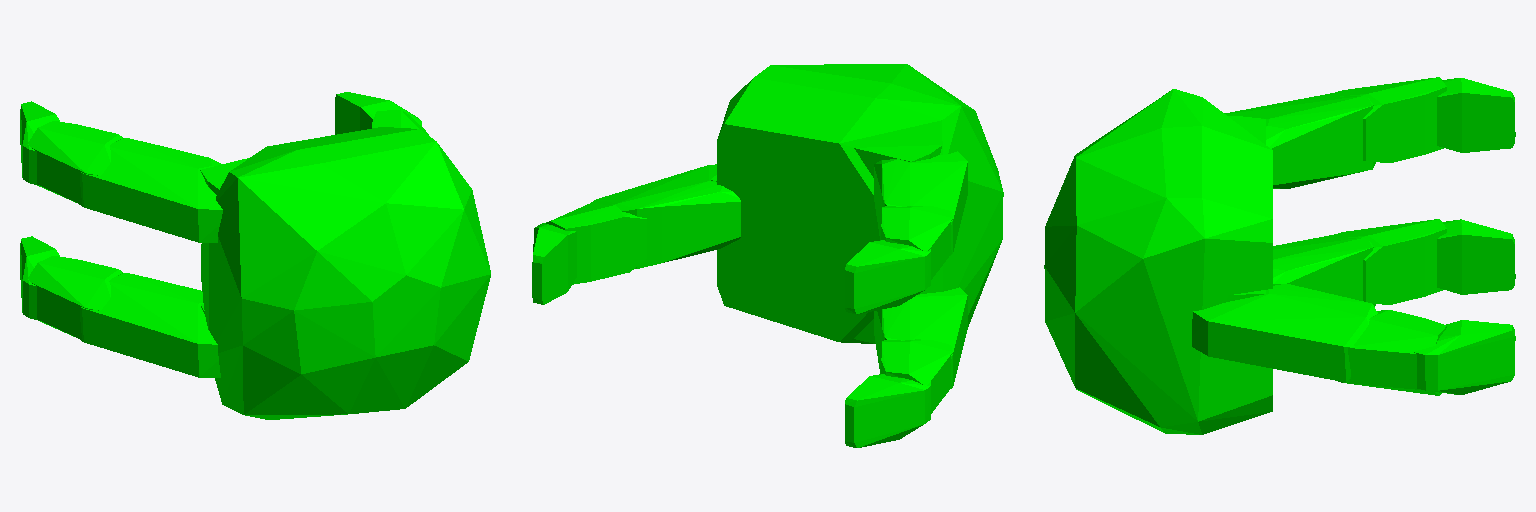
robot.urdf — s-model_articulated:
<?xml version="1.0" ?>
<!-- =================================================================================== -->
<!-- |    This document was autogenerated by xacro from s-model_articulated.xacro      | -->
<!-- |    EDITING THIS FILE BY HAND IS NOT RECOMMENDED                                 | -->
<!-- =================================================================================== -->
<!-- 
s-model_articulated - articulated version of the robotiq s-model,
3 fingered gripper.                                                
-->
<robot name="s-model_articulated" xmlns:xacro="http://ros.org/wiki/xacro">
  <link name="finger_1_link_0">
    <visual>
      <origin rpy="0 0 0" xyz="0.020 0 0"/>
      <geometry>
        <mesh filename="package://ur_description/meshes/s-model_articulated/visual/link_0.STL"/>
      </geometry>
      <material name="green">
        <color rgba="0 1 0 1"/>
      </material>
    </visual>
    <collision>
      <origin rpy="0 3.1416 -1.57" xyz="-0.0455 0.0414 0.036"/>
      <geometry>
        <mesh filename="package://ur_description/meshes/s-model_articulated/collision/link_0.STL"/>
      </geometry>
      <material name="yellow">
        <color rgba="0 1 1 1"/>
      </material>
    </collision>
    <inertial>
      <origin rpy="0 0 0" xyz="0 0 0"/>
      <mass value="0.05"/>
      <inertia ixx="0.01" ixy="0" ixz="0" iyy="0.01" iyz="0" izz="0.01"/>
    </inertial>
  </link>
  <link name="finger_1_link_1">
    <visual>
      <origin rpy="0 0 -0.52" xyz="0.050 -.028 0"/>
      <geometry>
        <mesh filename="package://ur_description/meshes/s-model_articulated/visual/link_1.STL"/>
      </geometry>
      <material name="green"/>
    </visual>
    <collision>
      <origin rpy="0 0 -0.52" xyz="0.050 -.028 0"/>
      <geometry>
        <mesh filename="package://ur_description/meshes/s-model_articulated/collision/link_1.STL"/>
      </geometry>
      <material name="yellow"/>
    </collision>
    <inertial>
      <origin rpy="0 0 0" xyz="0 0 0"/>
      <mass value="0.15"/>
      <inertia ixx="0.01" ixy="0" ixz="0" iyy="0.012756" iyz="0" izz="0.01"/>
    </inertial>
  </link>
  <link name="finger_1_link_2">
    <!--
			NOTE: This link has an offset in the z-direction based on the models that were
			used to generate grap-it poses.  With the offset below the model appears visually
			correct, but it is suspect.
			-->
    <visual>
      <origin rpy="0 0 0" xyz="0.039 0 0.0075"/>
      <geometry>
        <mesh filename="package://ur_description/meshes/s-model_articulated/visual/link_2.STL"/>
      </geometry>
      <material name="green"/>
    </visual>
    <collision>
      <origin rpy="0 0 0" xyz="0.039 0 0.0075"/>
      <geometry>
        <mesh filename="package://ur_description/meshes/s-model_articulated/collision/link_2.STL"/>
      </geometry>
      <material name="yellow"/>
    </collision>
    <inertial>
      <origin rpy="0 0 0" xyz="0 0 0"/>
      <mass value="0.15"/>
      <inertia ixx="0.01" ixy="0" ixz="0" iyy="0.012756" iyz="0" izz="0.01"/>
    </inertial>
  </link>
  <link name="finger_1_link_3">
    <visual>
      <origin rpy="0 0 0.52" xyz="0 0 0"/>
      <geometry>
        <mesh filename="package://ur_description/meshes/s-model_articulated/visual/link_3.STL"/>
      </geometry>
      <material name="green"/>
    </visual>
    <collision>
      <origin rpy="0 0 0.52" xyz="0 0 0"/>
      <geometry>
        <mesh filename="package://ur_description/meshes/s-model_articulated/collision/link_3.STL"/>
      </geometry>
      <material name="yellow"/>
    </collision>
    <inertial>
      <origin rpy="0 0 0" xyz="0 0 0"/>
      <mass value="0.05"/>
      <inertia ixx="0.01" ixy="0" ixz="0" iyy="0.01" iyz="0" izz="0.01"/>
    </inertial>
  </link>
  <joint name="finger_1_joint_1" type="revolute">
    <parent link="finger_1_link_0"/>
    <child link="finger_1_link_1"/>
    <axis xyz="0 0 1"/>
    <origin rpy="0 0 0" xyz="0.020 0 0"/>
    <limit effort="100" lower="0" upper="3.1416" velocity="100"/>
  </joint>
  <joint name="finger_1_joint_2" type="revolute">
    <parent link="finger_1_link_1"/>
    <child link="finger_1_link_2"/>
    <axis xyz="0 0 1"/>
    <origin rpy="0 0 -0.52" xyz="0.050 -.028 0"/>
    <limit effort="100" lower="0" upper="3.1416" velocity="100"/>
  </joint>
  <joint name="finger_1_joint_3" type="revolute">
    <parent link="finger_1_link_2"/>
    <child link="finger_1_link_3"/>
    <axis xyz="0 0 1"/>
    <origin rpy="0 0 0" xyz="0.039 0 0"/>
    <limit effort="100" lower="0" upper="3.1416" velocity="100"/>
  </joint>
  <link name="finger_2_link_0">
    <visual>
      <origin rpy="0 0 0" xyz="0.020 0 0"/>
      <geometry>
        <mesh filename="package://ur_description/meshes/s-model_articulated/visual/link_0.STL"/>
      </geometry>
      <material name="green">
        <color rgba="0 1 0 1"/>
      </material>
    </visual>
    <collision>
      <origin rpy="0 3.1416 -1.57" xyz="-0.0455 0.0414 0.036"/>
      <geometry>
        <mesh filename="package://ur_description/meshes/s-model_articulated/collision/link_0.STL"/>
      </geometry>
      <material name="yellow">
        <color rgba="0 1 1 1"/>
      </material>
    </collision>
    <inertial>
      <origin rpy="0 0 0" xyz="0 0 0"/>
      <mass value="0.05"/>
      <inertia ixx="0.01" ixy="0" ixz="0" iyy="0.01" iyz="0" izz="0.01"/>
    </inertial>
  </link>
  <link name="finger_2_link_1">
    <visual>
      <origin rpy="0 0 -0.52" xyz="0.050 -.028 0"/>
      <geometry>
        <mesh filename="package://ur_description/meshes/s-model_articulated/visual/link_1.STL"/>
      </geometry>
      <material name="green"/>
    </visual>
    <collision>
      <origin rpy="0 0 -0.52" xyz="0.050 -.028 0"/>
      <geometry>
        <mesh filename="package://ur_description/meshes/s-model_articulated/collision/link_1.STL"/>
      </geometry>
      <material name="yellow"/>
    </collision>
    <inertial>
      <origin rpy="0 0 0" xyz="0 0 0"/>
      <mass value="0.15"/>
      <inertia ixx="0.01" ixy="0" ixz="0" iyy="0.012756" iyz="0" izz="0.01"/>
    </inertial>
  </link>
  <link name="finger_2_link_2">
    <!--
			NOTE: This link has an offset in the z-direction based on the models that were
			used to generate grap-it poses.  With the offset below the model appears visually
			correct, but it is suspect.
			-->
    <visual>
      <origin rpy="0 0 0" xyz="0.039 0 0.0075"/>
      <geometry>
        <mesh filename="package://ur_description/meshes/s-model_articulated/visual/link_2.STL"/>
      </geometry>
      <material name="green"/>
    </visual>
    <collision>
      <origin rpy="0 0 0" xyz="0.039 0 0.0075"/>
      <geometry>
        <mesh filename="package://ur_description/meshes/s-model_articulated/collision/link_2.STL"/>
      </geometry>
      <material name="yellow"/>
    </collision>
    <inertial>
      <origin rpy="0 0 0" xyz="0 0 0"/>
      <mass value="0.15"/>
     <inertia ixx="0.01" ixy="0" ixz="0" iyy="0.012756" iyz="0" izz="0.01"/>
    </inertial>
  </link>
  <link name="finger_2_link_3">
    <visual>
      <origin rpy="0 0 0.52" xyz="0 0 0"/>
      <geometry>
        <mesh filename="package://ur_description/meshes/s-model_articulated/visual/link_3.STL"/>
      </geometry>
      <material name="green"/>
    </visual>
    <collision>
      <origin rpy="0 0 0.52" xyz="0 0 0"/>
      <geometry>
        <mesh filename="package://ur_description/meshes/s-model_articulated/collision/link_3.STL"/>
      </geometry>
      <material name="yellow"/>
    </collision>
    <inertial>
      <origin rpy="0 0 0" xyz="0 0 0"/>
      <mass value="0.05"/>
      <inertia ixx="0.01" ixy="0" ixz="0" iyy="0.01" iyz="0" izz="0.01"/>
    </inertial>
  </link>
  <joint name="finger_2_joint_1" type="revolute">
    <parent link="finger_2_link_0"/>
    <child link="finger_2_link_1"/>
    <axis xyz="0 0 1"/>
    <origin rpy="0 0 0" xyz="0.020 0 0"/>
    <limit effort="100" lower="0" upper="3.1416" velocity="100"/>
  </joint>
  <joint name="finger_2_joint_2" type="revolute">
    <parent link="finger_2_link_1"/>
    <child link="finger_2_link_2"/>
    <axis xyz="0 0 1"/>
    <origin rpy="0 0 -0.52" xyz="0.050 -.028 0"/>
    <limit effort="100" lower="0" upper="3.1416" velocity="100"/>
  </joint>
  <joint name="finger_2_joint_3" type="revolute">
    <parent link="finger_2_link_2"/>
    <child link="finger_2_link_3"/>
    <axis xyz="0 0 1"/>
    <origin rpy="0 0 0" xyz="0.039 0 0"/>
    <limit effort="100" lower="0" upper="3.1416" velocity="100"/>
  </joint>
  <link name="finger_middle_link_0">
    <visual>
      <origin rpy="0 0 0" xyz="0.020 0 0"/>
      <geometry>
        <mesh filename="package://ur_description/meshes/s-model_articulated/visual/link_0.STL"/>
      </geometry>
      <material name="green">
        <color rgba="0 1 0 1"/>
      </material>
    </visual>
    <collision>
      <origin rpy="0 3.1416 -1.57" xyz="-0.0455 0.0414 0.036"/>
      <geometry>
        <mesh filename="package://ur_description/meshes/s-model_articulated/collision/link_0.STL"/>
      </geometry>
      <material name="yellow">
        <color rgba="0 1 1 1"/>
      </material>
    </collision>
    <inertial>
      <origin rpy="0 0 0" xyz="0 0 0"/>
      <mass value="0.05"/>
      <inertia ixx="0.01" ixy="0" ixz="0" iyy="0.01" iyz="0" izz="0.01"/>
    </inertial>
  </link>
  <link name="finger_middle_link_1">
    <visual>
      <origin rpy="0 0 -0.52" xyz="0.050 -.028 0"/>
      <geometry>
        <mesh filename="package://ur_description/meshes/s-model_articulated/visual/link_1.STL"/>
      </geometry>
      <material name="green"/>
    </visual>
    <collision>
      <origin rpy="0 0 -0.52" xyz="0.050 -.028 0"/>
      <geometry>
        <mesh filename="package://ur_description/meshes/s-model_articulated/collision/link_1.STL"/>
      </geometry>
      <material name="yellow"/>
    </collision>
    <inertial>
      <origin rpy="0 0 0" xyz="0 0 0"/>
      <mass value="0.15"/>
      <inertia ixx="0.01" ixy="0" ixz="0" iyy="0.012756" iyz="0" izz="0.01"/>
    </inertial>
  </link>
  <link name="finger_middle_link_2">
    <!--
			NOTE: This link has an offset in the z-direction based on the models that were
			used to generate grap-it poses.  With the offset below the model appears visually
			correct, but it is suspect.
			-->
    <visual>
      <origin rpy="0 0 0" xyz="0.039 0 0.0075"/>
      <geometry>
        <mesh filename="package://ur_description/meshes/s-model_articulated/visual/link_2.STL"/>
      </geometry>
      <material name="green"/>
    </visual>
    <collision>
      <origin rpy="0 0 0" xyz="0.039 0 0.0075"/>
      <geometry>
        <mesh filename="package://ur_description/meshes/s-model_articulated/collision/link_2.STL"/>
      </geometry>
      <material name="yellow"/>
    </collision>
    <inertial>
      <origin rpy="0 0 0" xyz="0 0 0"/>
      <mass value="0.15"/>
      <inertia ixx="0.01" ixy="0" ixz="0" iyy="0.012756" iyz="0" izz="0.01"/>
    </inertial>
  </link>
  <link name="finger_middle_link_3">
    <visual>
      <origin rpy="0 0 0.52" xyz="0 0 0"/>
      <geometry>
        <mesh filename="package://ur_description/meshes/s-model_articulated/visual/link_3.STL"/>
      </geometry>
      <material name="green"/>
    </visual>
    <collision>
      <origin rpy="0 0 0.52" xyz="0 0 0"/>
      <geometry>
        <mesh filename="package://ur_description/meshes/s-model_articulated/collision/link_3.STL"/>
      </geometry>
      <material name="yellow"/>
    </collision>
    <inertial>
      <origin rpy="0 0 0" xyz="0 0 0"/>
      <mass value="0.05"/>
      <inertia ixx="0.01" ixy="0" ixz="0" iyy="0.01" iyz="0" izz="0.01"/>
    </inertial>
  </link>
  <joint name="finger_middle_joint_1" type="revolute">
    <parent link="finger_middle_link_0"/>
    <child link="finger_middle_link_1"/>
    <axis xyz="0 0 1"/>
    <origin rpy="0 0 0" xyz="0.020 0 0"/>
    <limit effort="100" lower="0" upper="3.1416" velocity="100"/>
  </joint>
  <joint name="finger_middle_joint_2" type="revolute">
    <parent link="finger_middle_link_1"/>
    <child link="finger_middle_link_2"/>
    <axis xyz="0 0 1"/>
    <origin rpy="0 0 -0.52" xyz="0.050 -.028 0"/>
    <limit effort="100" lower="0" upper="3.1416" velocity="100"/>
  </joint>
  <joint name="finger_middle_joint_3" type="revolute">
    <parent link="finger_middle_link_2"/>
    <child link="finger_middle_link_3"/>
    <axis xyz="0 0 1"/>
    <origin rpy="0 0 0" xyz="0.039 0 0"/>
    <limit effort="100" lower="0" upper="3.1416" velocity="100"/>
  </joint>
  <link name="palm">
    <visual>
      <geometry>
        <mesh filename="package://ur_description/meshes/s-model_articulated/visual/palm.STL"/>
      </geometry>
      <material name="green">
        <color rgba="0 1 0 1"/>
      </material>
    </visual>
    <collision>
      <geometry>
        <mesh filename="package://ur_description/meshes/s-model_articulated/collision/palm.STL"/>
      </geometry>
      <material name="yellow">
        <color rgba="0 1 1 1"/>
      </material>
    </collision>
    <inertial>
      <origin rpy="0 0 0" xyz="0 0 0"/>
      <mass value="1.3"/>
      <inertia ixx="0.0035" ixy="0" ixz="0" iyy="0.0035" iyz="0" izz="0.0035"/>
    </inertial>
  </link>
  <inertial>
    <origin rpy="0 0 0" xyz="0 0 0"/>
    <mass value="1.3"/>
    <inertia ixx="0.006012" ixy="0.000079" ixz="-0.00024" iyy="0.012892" iyz="0" izz="0.002435"/>
  </inertial>
  <joint name="palm_finger_1_joint" type="revolute">
    <parent link="palm"/>
    <child link="finger_1_link_0"/>
    <axis xyz="0 1 0"/>
    <origin rpy="0 3.1416 -1.57" xyz="-0.0455 0.0214 0.036"/>
    <limit effort="100" lower="-0.16" upper="0.25" velocity="100"/>
  </joint>
  <joint name="palm_finger_2_joint" type="revolute">
    <parent link="palm"/>
    <child link="finger_2_link_0"/>
    <axis xyz="0 1 0"/>
    <origin rpy="0 3.1416 -1.57" xyz="-0.0455 0.0214 -0.036"/>
    <limit effort="100" lower="-0.25" upper="0.16" velocity="100"/>
  </joint>
  <joint name="palm_finger_middle_joint" type="fixed">
    <parent link="palm"/>
    <child link="finger_middle_link_0"/>
    <axis xyz="0 0 1"/>
    <origin rpy="0 0 1.57" xyz="0.0455 0.0214 0"/>
  </joint>
  <!--
	<include filename="$(find robotiq_s_model_visualization)/cfg/s-model_finger_articulated_macro.xacro" />
	<xacro:s-model_finger_articulated prefix=""/>
-->
</robot>

--- Render facts (derived) ---
3 views of the same robot in one strip: view 1: azimuth 30°, elevation 25°; view 2: azimuth 150°, elevation 25°; view 3: azimuth 270°, elevation 25° (orthographic).
Robot: s-model_articulated — 13 links, 12 joints (11 revolute, 1 fixed); root link palm; default pose: all joints at 0.
Links seen in each view (by area): view 1: palm, finger_1_link_1, finger_2_link_1, finger_1_link_2, finger_2_link_2, finger_middle_link_3, finger_2_link_3, finger_1_link_3, finger_middle_link_2, finger_1_link_0; view 2: palm, finger_middle_link_1, finger_middle_link_2, finger_1_link_1, finger_1_link_3, finger_2_link_3, finger_2_link_1, finger_2_link_2, finger_1_link_2, finger_middle_link_3, finger_1_link_0; view 3: palm, finger_middle_link_1, finger_1_link_1, finger_middle_link_3, finger_1_link_2, finger_2_link_2, finger_middle_link_2, finger_1_link_3, finger_2_link_3, finger_2_link_1.
Link boxes in pixels (box(x1,y1,x2,y2)): palm: box(201, 127, 490, 419); finger_1_link_1: box(79, 138, 222, 242); finger_2_link_1: box(80, 273, 220, 377); finger_1_link_2: box(26, 121, 122, 204); finger_2_link_2: box(26, 256, 122, 339); finger_middle_link_3: box(335, 92, 421, 134); finger_2_link_3: box(20, 236, 59, 320); finger_1_link_3: box(20, 101, 59, 185); finger_middle_link_2: box(372, 109, 428, 135); finger_1_link_0: box(200, 158, 248, 194); palm: box(717, 64, 1003, 343); finger_middle_link_1: box(591, 164, 740, 268); finger_middle_link_2: box(546, 203, 646, 284); finger_1_link_1: box(874, 151, 967, 255); finger_1_link_3: box(845, 240, 930, 314); finger_2_link_3: box(845, 374, 930, 447); finger_2_link_1: box(874, 287, 967, 388); finger_2_link_2: box(881, 339, 952, 413); finger_1_link_2: box(881, 206, 952, 279); finger_middle_link_3: box(532, 222, 576, 304); finger_1_link_0: box(854, 145, 941, 177); palm: box(1044, 89, 1272, 434); finger_middle_link_1: box(1192, 284, 1377, 382); finger_1_link_1: box(1224, 93, 1375, 188); finger_middle_link_3: box(1414, 320, 1515, 394); finger_1_link_2: box(1329, 77, 1446, 162); finger_2_link_2: box(1329, 219, 1446, 304); finger_middle_link_2: box(1338, 310, 1446, 395); finger_1_link_3: box(1437, 78, 1515, 152); finger_2_link_3: box(1437, 219, 1515, 294); finger_2_link_1: box(1273, 234, 1375, 306).
Bounding box of the posed robot: 0.22 × 0.2167 × 0.1302 m (x, y, z).
Meshes: 5 distinct files referenced, 13 mesh visuals loaded (5 binary STL).